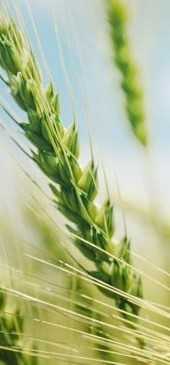Healthy Wheat: (5, 22, 148, 310)
